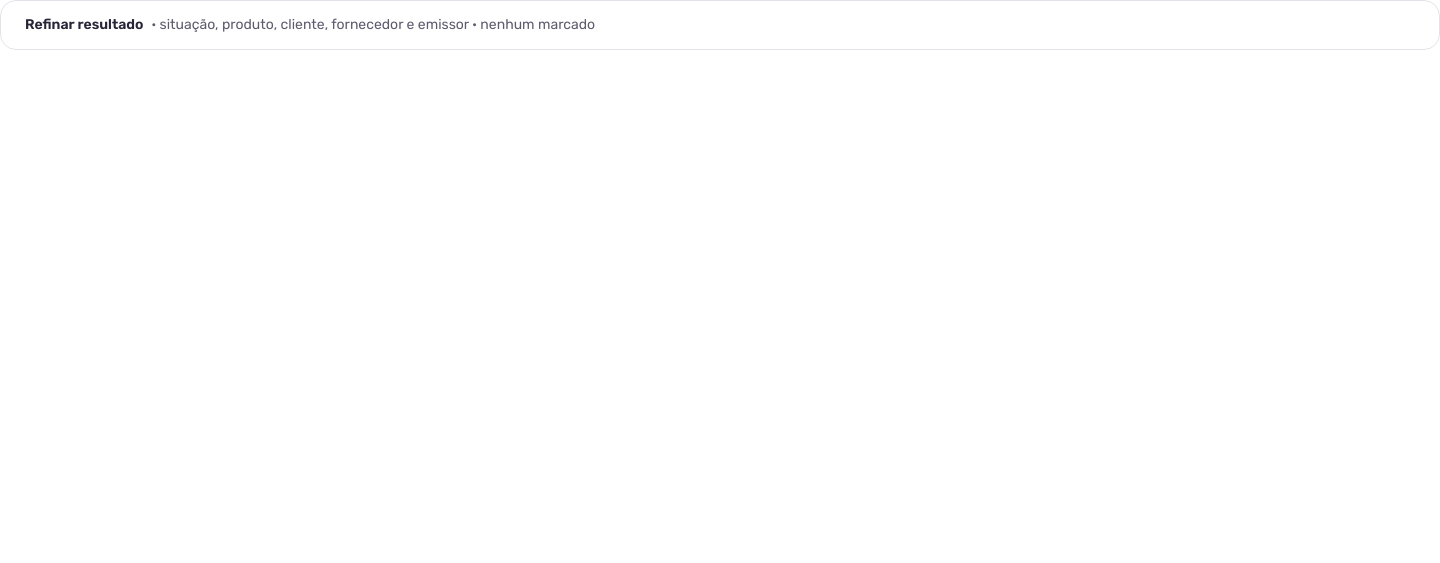
Scenario: modo resultado: o resumo do quadro não conta a busca e o quadro abre e fecha pelo summary
Later steps or results of the test are not shown.
Check: the text "Refinar resultado" shows "· nenhum marcado", box [160,16,595,33]
Click the heading "Refinar resultado" at (310, 24), box [25,16,595,33]
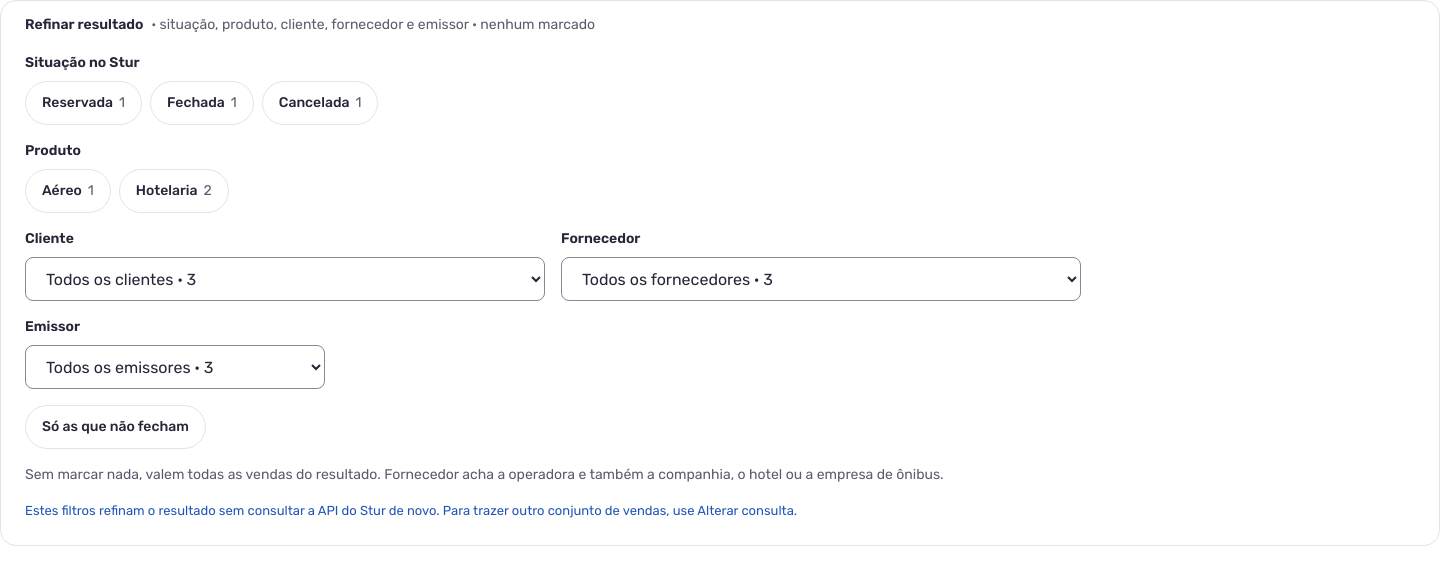
Check: the text "Refinar resultado" has attribute open
